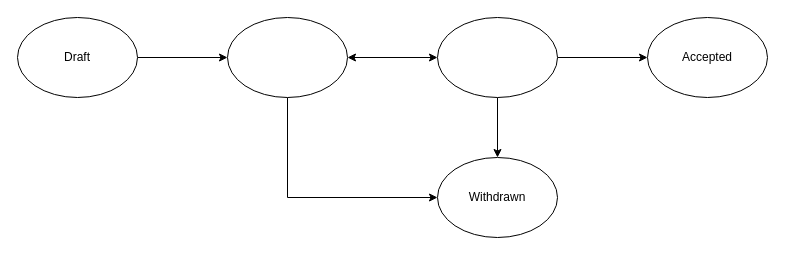
Image size: 785x255. Some labels were removed from this diagram. Each missing label, with the box of its shape:
Last call: (436, 16, 558, 98)
Review: (226, 16, 348, 98)
